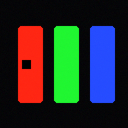1 square: (22, 60, 30, 68)
